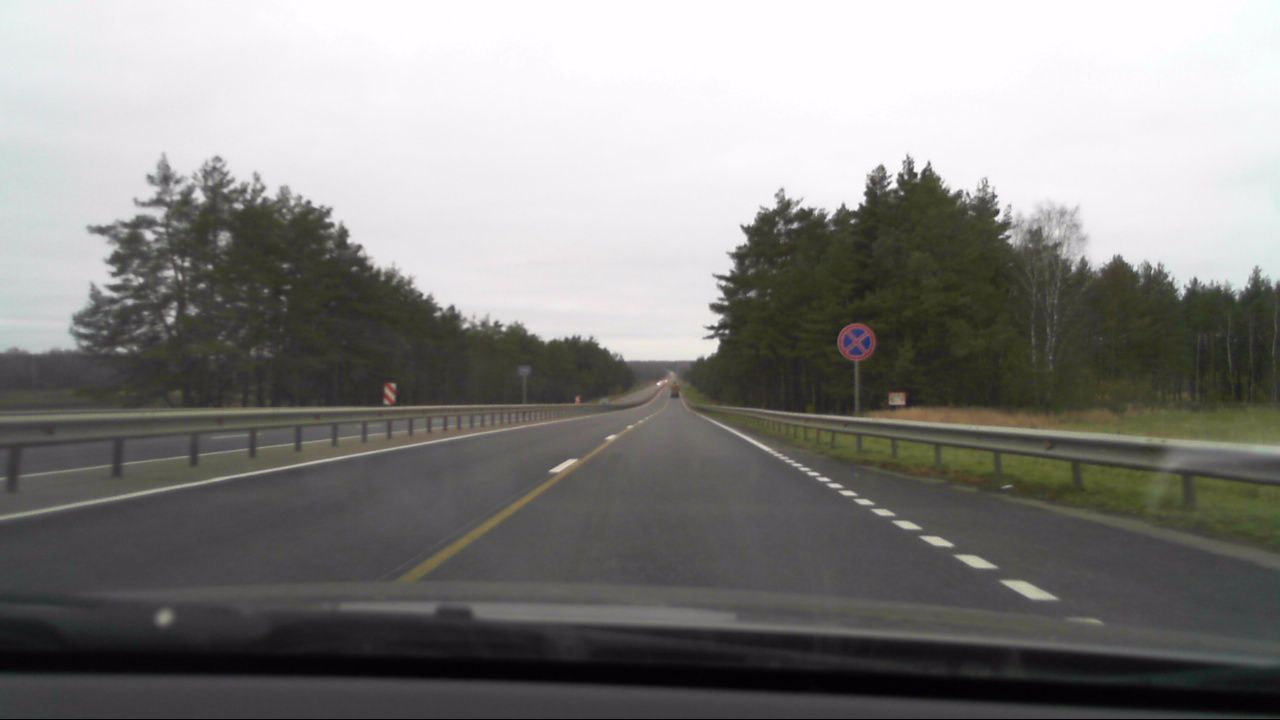No Parking: (836, 322, 876, 364)
